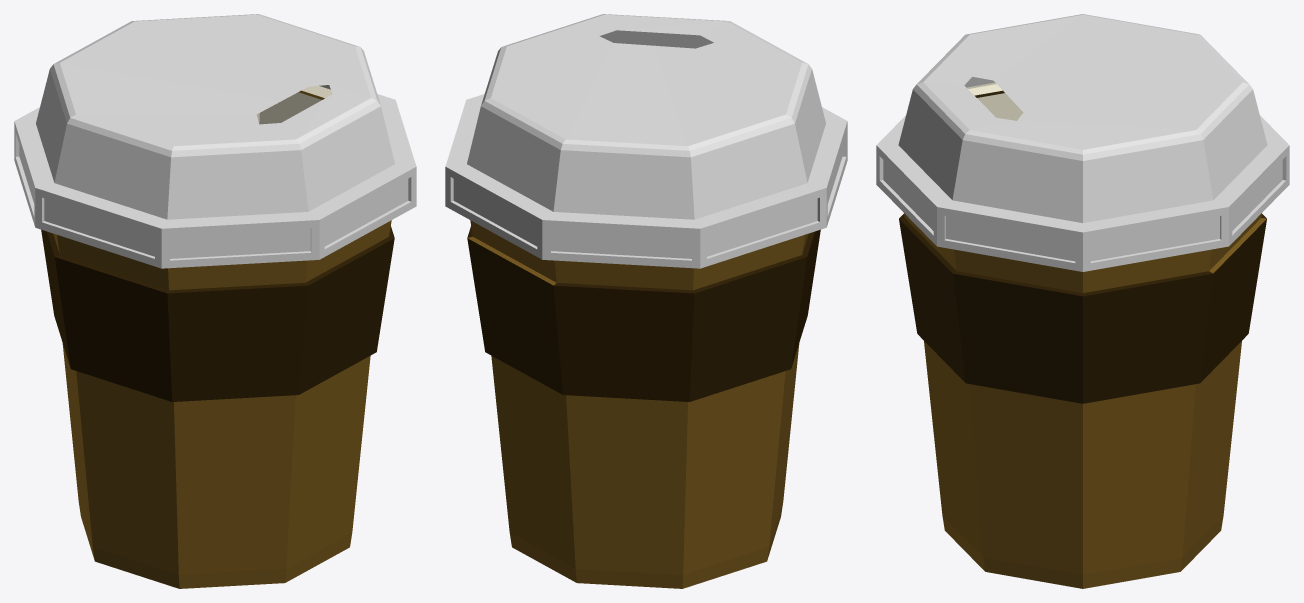
The model's file is coffee mug.fbx.
The picture shows the model from 3 angles, left to right: view 1: azimuth 30°, elevation 25°; view 2: azimuth 150°, elevation 25°; view 3: azimuth 270°, elevation 25°; orthographic projection.
Parts seen in each view (by area): view 1: Mug, Lid; view 2: Mug, Lid; view 3: Mug, Lid.
Part boxes in pixels (x1,y1,x2,y2): Mug: (41,86,394,588); Lid: (14,14,416,268); Mug: (467,220,820,588); Lid: (445,14,847,268); Mug: (899,82,1266,588); Lid: (876,14,1289,271).
Bounding box in the file's own units: 362 × 434 × 362.
